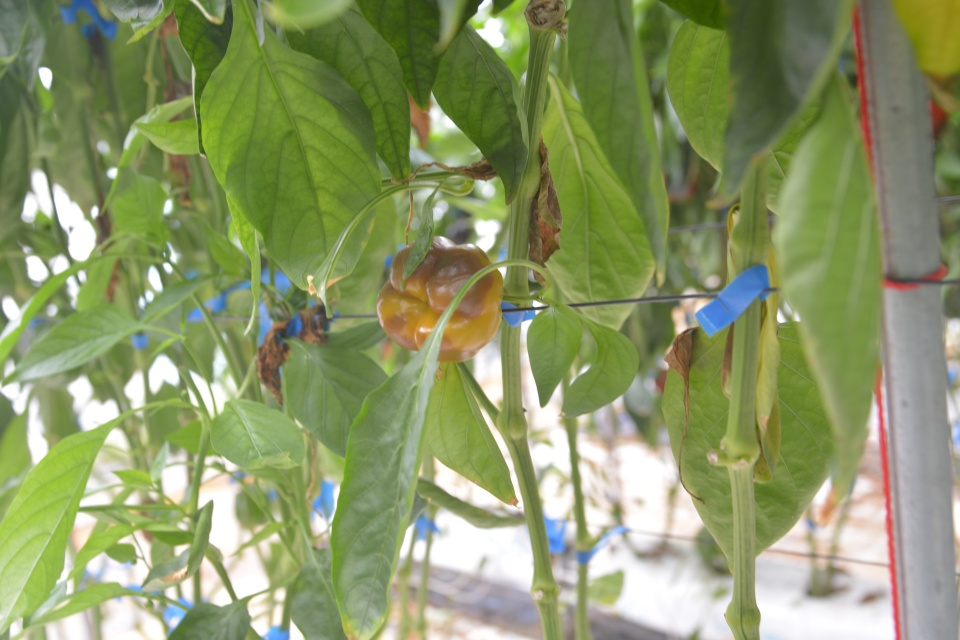fruit: (374, 234, 504, 363)
